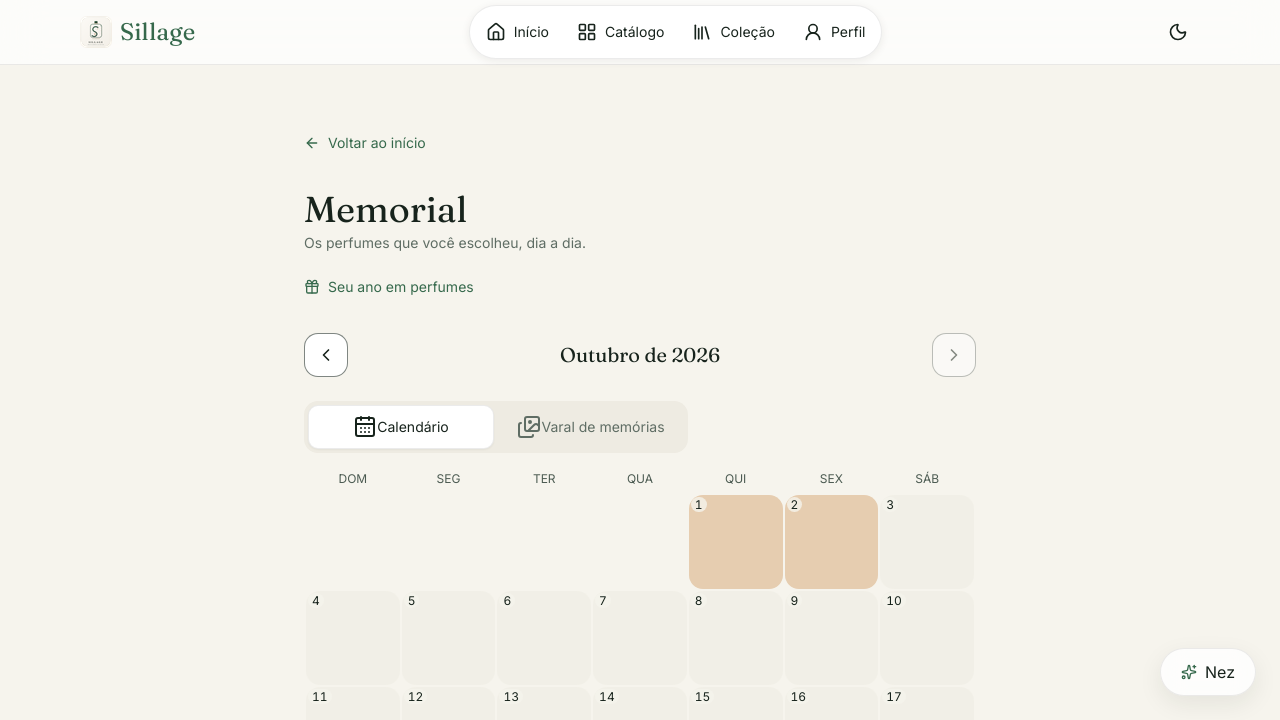
MemorialPage (Fase 19) › mês anterior e próximo: navega, guarda na URL e limita ao mês de hoje
The image size is (1280, 720).
Expected: the button named "Próximo mês" is disabled, [932,333,976,377]
Expected: the button "Ir para este mês" is not shown
What coordinates should you click on to do the following:
click the button named "Mês anterior"
I would click on:
 (326, 355)
Its box is [304,333,348,377].
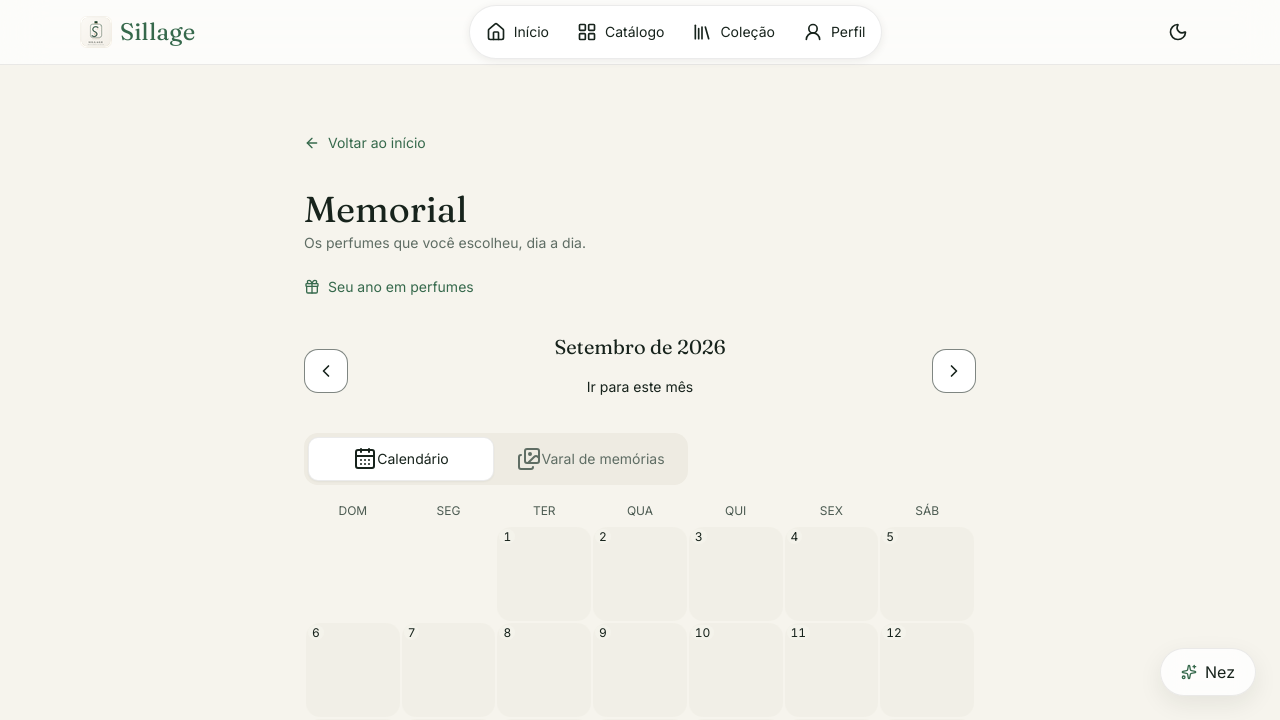
Now the button named "Próximo mês" is enabled, box [932,349,976,393]
What coordinates should you click on to do the following:
click the button "Ir para este mês"
I would click on:
 (640, 387)
Its box is [575,365,705,409].
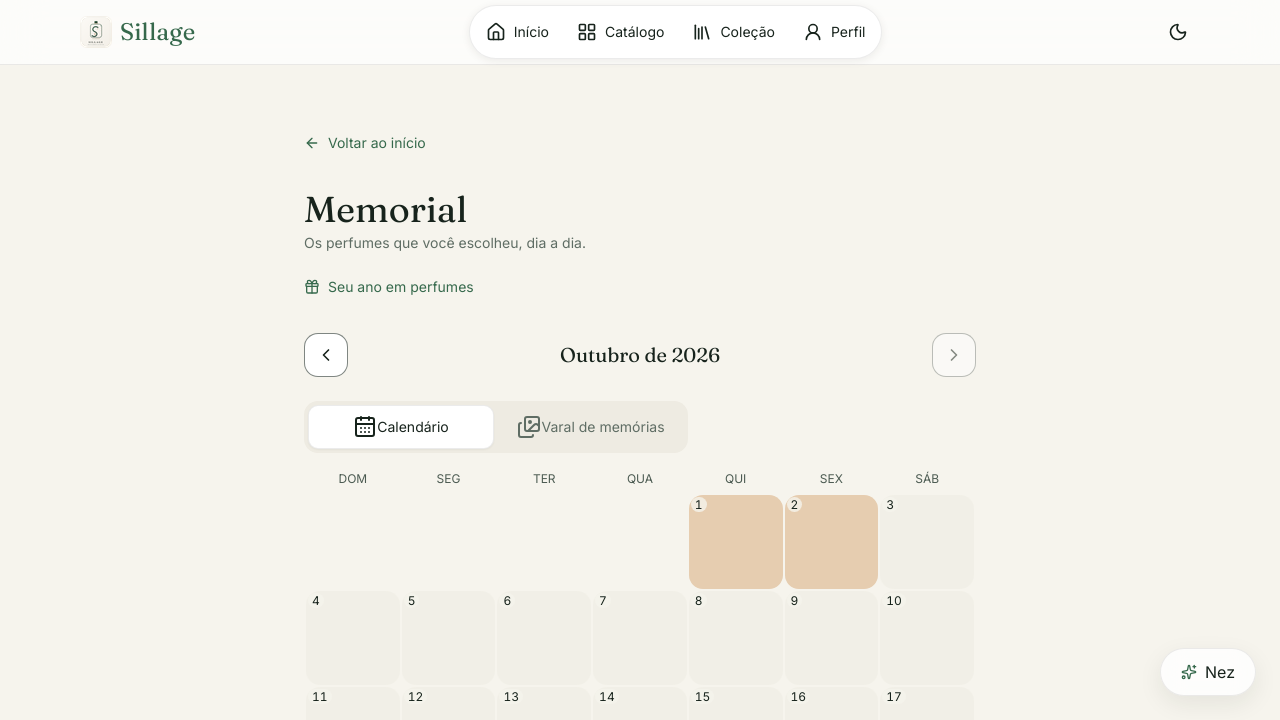
Now the heading "outubro de 2026" is shown, box [560,341,720,369]
Now the button named "Próximo mês" is disabled, box [932,333,976,377]
